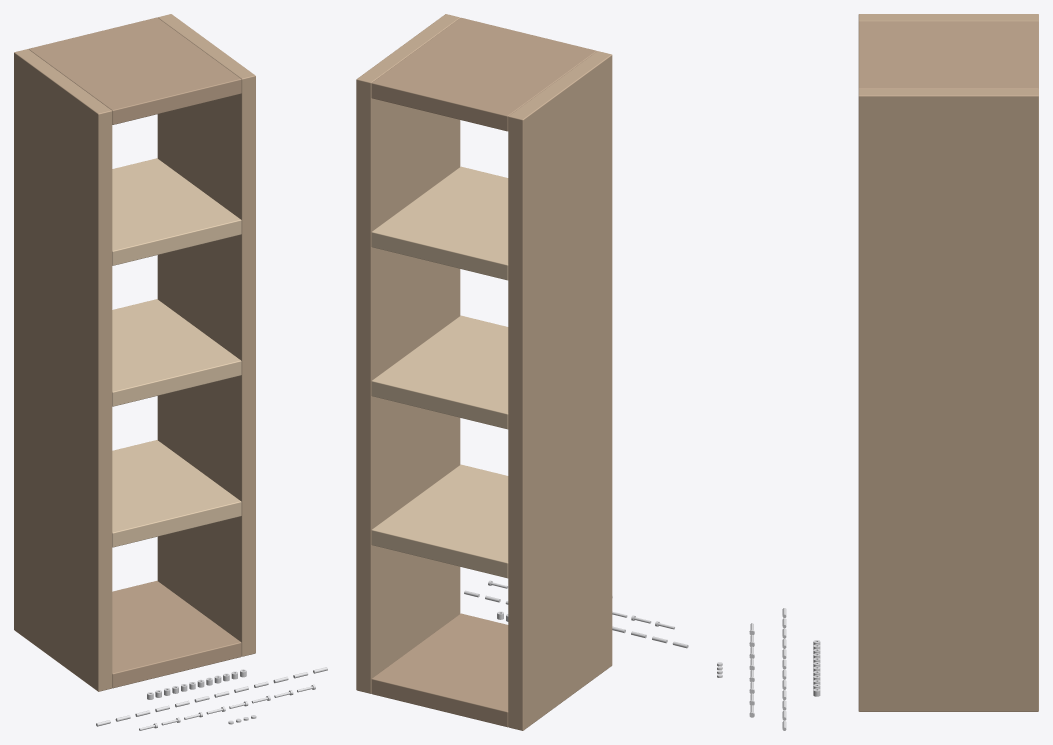
The model's file is gen_kallax.glb.
The picture shows the model from 3 angles, left to right: view 1: azimuth 30°, elevation 25°; view 2: azimuth 150°, elevation 25°; view 3: azimuth 270°, elevation 25°; orthographic projection. The views are drawn at different scales.
Parts seen in each view (by area): view 1: side_left, side_right, top, shelf_1, bottom, shelf_2, shelf_3; view 2: side_left, side_right, top, bottom, shelf_3, shelf_2, shelf_1; view 3: side_right, top, side_left.
Part boxes in pixels (bbox=[...]): side_left: bbox=[14, 49, 112, 691]; side_right: bbox=[157, 14, 255, 656]; top: bbox=[28, 17, 241, 124]; shelf_1: bbox=[112, 440, 241, 547]; bottom: bbox=[112, 581, 241, 688]; shelf_2: bbox=[112, 299, 241, 406]; shelf_3: bbox=[112, 158, 241, 265]; side_left: bbox=[508, 51, 612, 730]; side_right: bbox=[356, 14, 460, 693]; top: bbox=[371, 17, 596, 131]; bottom: bbox=[371, 613, 508, 727]; shelf_3: bbox=[371, 166, 508, 280]; shelf_2: bbox=[371, 315, 508, 429]; shelf_1: bbox=[371, 464, 508, 578]; side_right: bbox=[858, 88, 1038, 711]; top: bbox=[858, 21, 1038, 88]; side_left: bbox=[858, 14, 1038, 21].
Bounding box in the file's own units: 0.6125 × 1.47 × 0.696.
